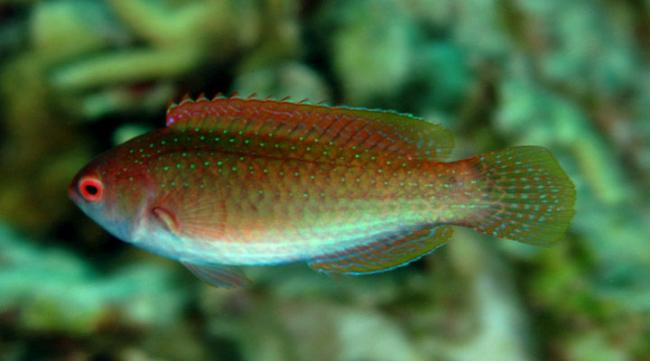fish: (67, 92, 579, 290)
